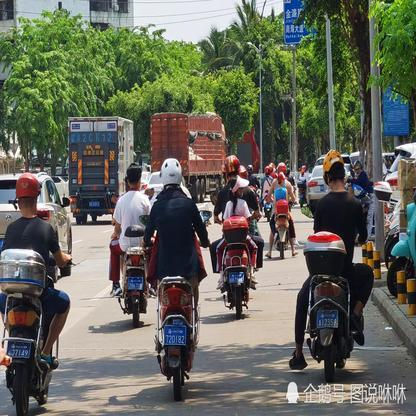target: (288, 149, 375, 383), (2, 174, 76, 410), (142, 157, 207, 401), (212, 153, 267, 319), (109, 161, 156, 329)
